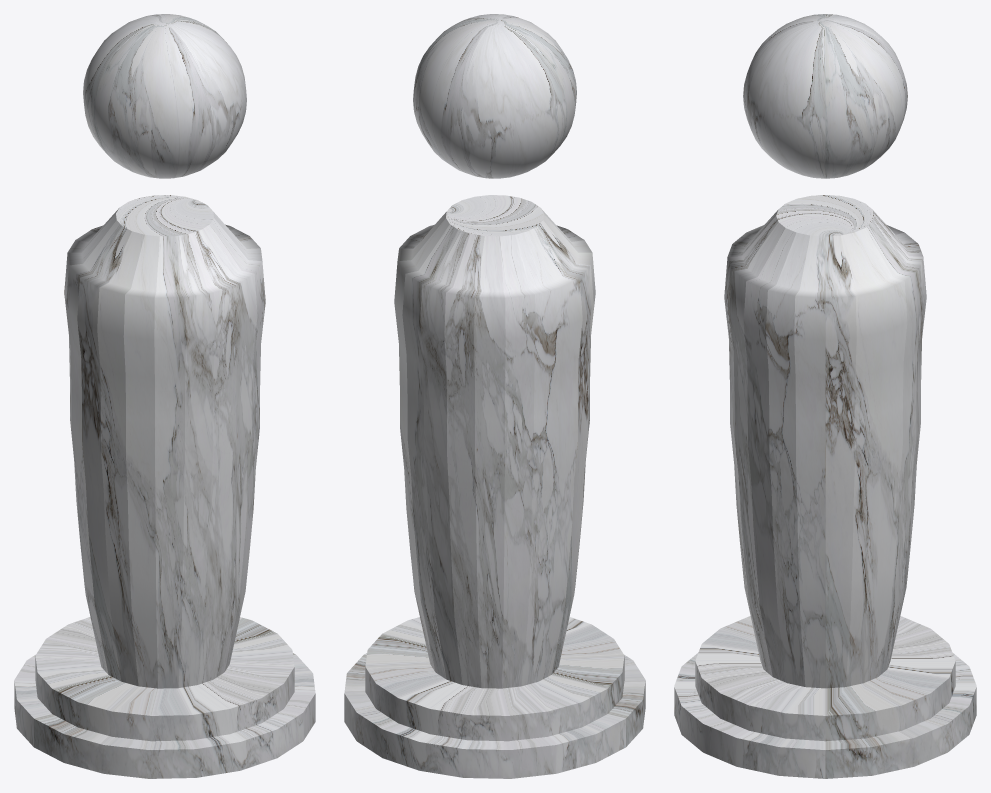
The model's file is playerUnit.fbx.
3 views of the same model, side by side, from view 1: azimuth 30°, elevation 25°; view 2: azimuth 150°, elevation 25°; view 3: azimuth 270°, elevation 25° (orthographic).
Parts seen in each view (by area): view 1: pSphere2; view 2: pSphere2; view 3: pSphere2.
Boxes of the visible parts, <box> form: pSphere2: <box>14,14,315,778</box>; pSphere2: <box>344,14,645,778</box>; pSphere2: <box>674,14,976,778</box>.
Bounding box in the file's own units: 6.61 × 16.71 × 6.61.
1 material, 1 textured.
